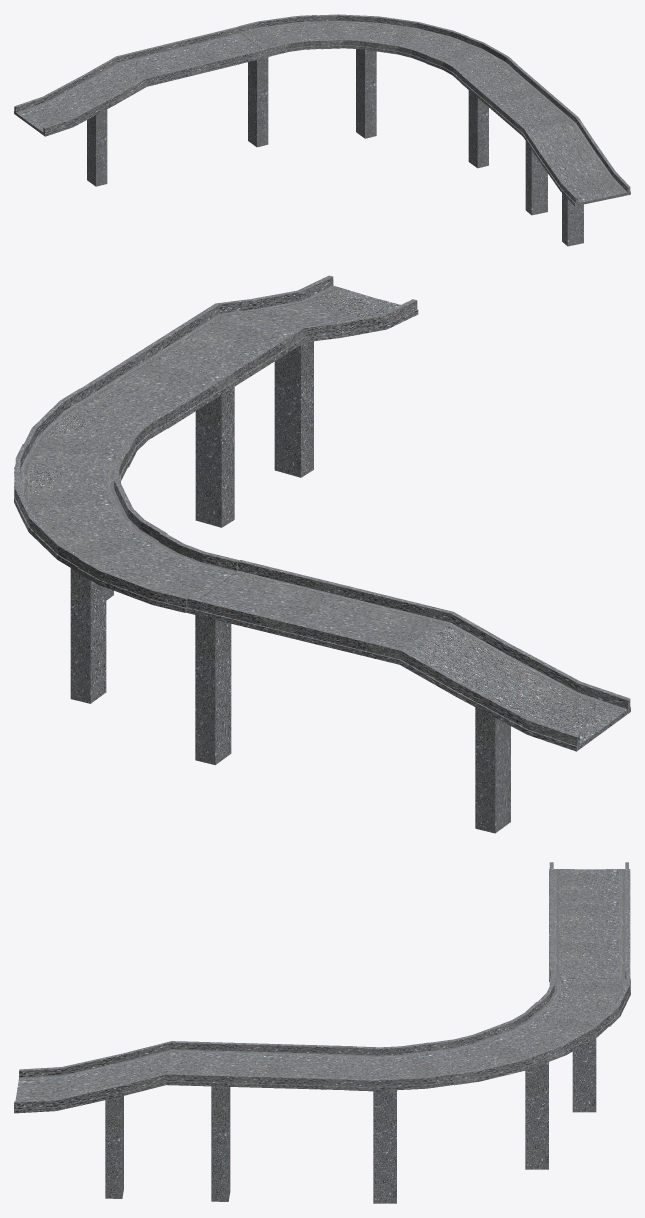
Rendered from bridge.fbx.
3 renders of one model, top to bottom at view 1: azimuth 30°, elevation 25°; view 2: azimuth 150°, elevation 25°; view 3: azimuth 270°, elevation 25°, orthographic. The views are drawn at different scales.
Visible parts, largest first — view 1: setforbridge14:pCube009, setforbridge1:pCube009, setforbridge10:pCube008, setforbridge:pCube006, setforbridge:pCube008, setforbridge7:pCube006, setforbridge11:pCube008, setforbridge12:pCube008, setforbridge13:pCube006, setforbridge15:pCube006, setforbridge16:pCube5, setforbridge:pCube5 (+4 smaller); view 2: setforbridge1:pCube009, setforbridge:pCube006, setforbridge7:pCube006, setforbridge14:pCube009, setforbridge:pCube008, setforbridge13:pCube006, setforbridge15:pCube006, setforbridge12:pCube008, setforbridge10:pCube008, setforbridge11:pCube008, setforbridge:pCube5, setforbridge13:pCube5 (+3 smaller); view 3: setforbridge14:pCube009, setforbridge13:pCube006, setforbridge15:pCube006, setforbridge12:pCube008, setforbridge11:pCube008, setforbridge10:pCube008, setforbridge:pCube008, setforbridge7:pCube006, setforbridge:pCube006, setforbridge19:pCube5, setforbridge1:pCube009, setforbridge16:pCube5 (+3 smaller).
Boxes of the visible parts, <box> form: setforbridge14:pCube009: <box>523,117,630,206</box>; setforbridge1:pCube009: <box>14,56,146,136</box>; setforbridge10:pCube008: <box>316,14,397,51</box>; setforbridge:pCube006: <box>116,41,208,86</box>; setforbridge:pCube008: <box>238,15,323,56</box>; setforbridge7:pCube006: <box>177,26,269,71</box>; setforbridge11:pCube008: <box>377,19,467,62</box>; setforbridge12:pCube008: <box>426,36,516,82</box>; setforbridge13:pCube006: <box>492,90,578,136</box>; setforbridge15:pCube006: <box>460,64,546,109</box>; setforbridge16:pCube5: <box>356,49,376,138</box>; setforbridge:pCube5: <box>248,57,268,147</box>; setforbridge1:pCube009: <box>400,612,630,751</box>; setforbridge:pCube006: <box>292,585,453,664</box>; setforbridge7:pCube006: <box>186,560,345,638</box>; setforbridge14:pCube009: <box>216,275,418,342</box>; setforbridge:pCube008: <box>77,532,239,612</box>; setforbridge13:pCube006: <box>147,303,304,385</box>; setforbridge15:pCube006: <box>80,346,236,428</box>; setforbridge12:pCube008: <box>24,388,167,467</box>; setforbridge10:pCube008: <box>21,494,167,571</box>; setforbridge11:pCube008: <box>14,444,127,517</box>; setforbridge:pCube5: <box>195,615,231,765</box>; setforbridge13:pCube5: <box>195,387,234,527</box>; setforbridge14:pCube009: <box>14,1041,171,1113</box>; setforbridge13:pCube006: <box>166,1041,263,1087</box>; setforbridge15:pCube006: <box>256,1043,354,1090</box>; setforbridge12:pCube008: <box>347,1042,453,1091</box>; setforbridge11:pCube008: <box>429,1027,547,1085</box>; setforbridge10:pCube008: <box>492,1002,608,1062</box>; setforbridge:pCube008: <box>537,972,630,1026</box>; setforbridge7:pCube006: <box>549,932,630,981</box>; setforbridge:pCube006: <box>549,894,630,939</box>; setforbridge19:pCube5: <box>373,1090,396,1203</box>; setforbridge1:pCube009: <box>549,862,630,901</box>; setforbridge16:pCube5: <box>525,1062,548,1169</box>.
Bounding box in the file's own units: 176 × 44.26 × 183.
Materials: 1 (1 with a texture image).
